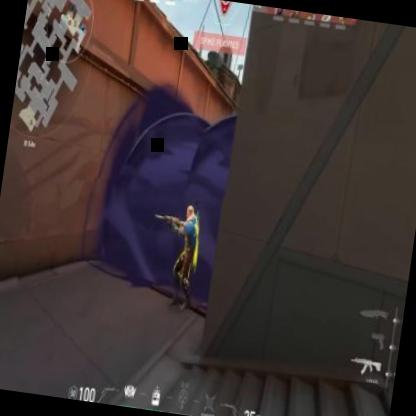enemy: (167, 205, 204, 310)
enemy_head: (184, 204, 194, 221)
